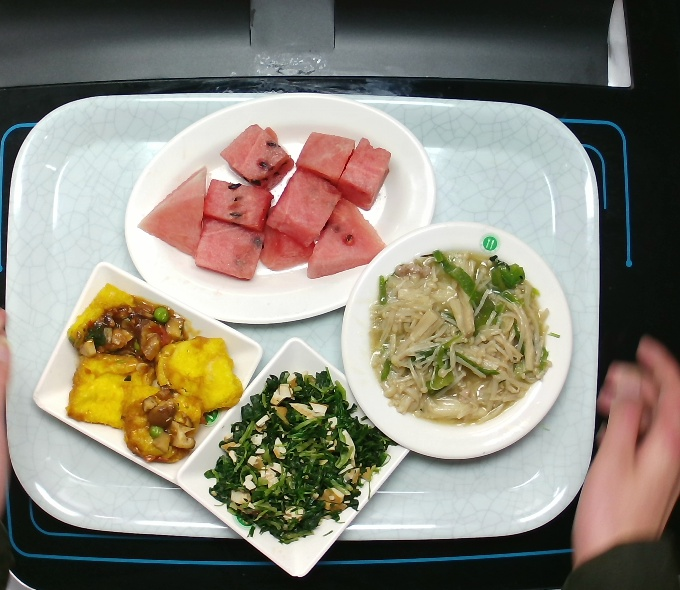wcq-CuiPiDouFu: (63, 279, 247, 466)
wcq-JinZhenGu: (364, 245, 557, 431)
wcq-MaLanTouChaoDouGan: (201, 362, 403, 546)
wcq-XiGua: (133, 117, 395, 284)
